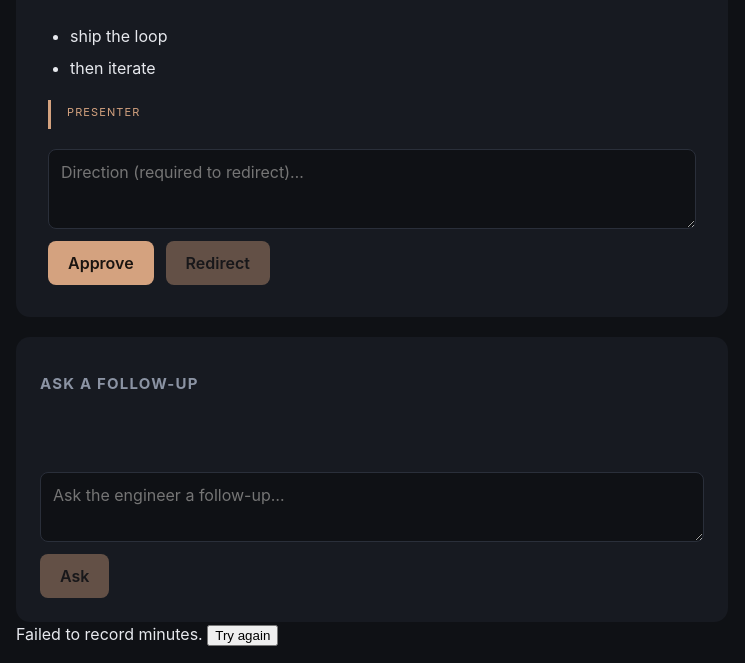
Test: MeetingView — two-step decision handoff › shows minutes-error + retry on a non-201 POST and keeps the slide stage
(page scrolled)
Expected: the element with test id "minutes-error" is shown, top-left (16, 624), bottom-right (278, 646)
Step 1. Click the button with test id "minutes-retry" → (243, 636), box top-left (207, 625), bottom-right (278, 646)
(page scrolled)
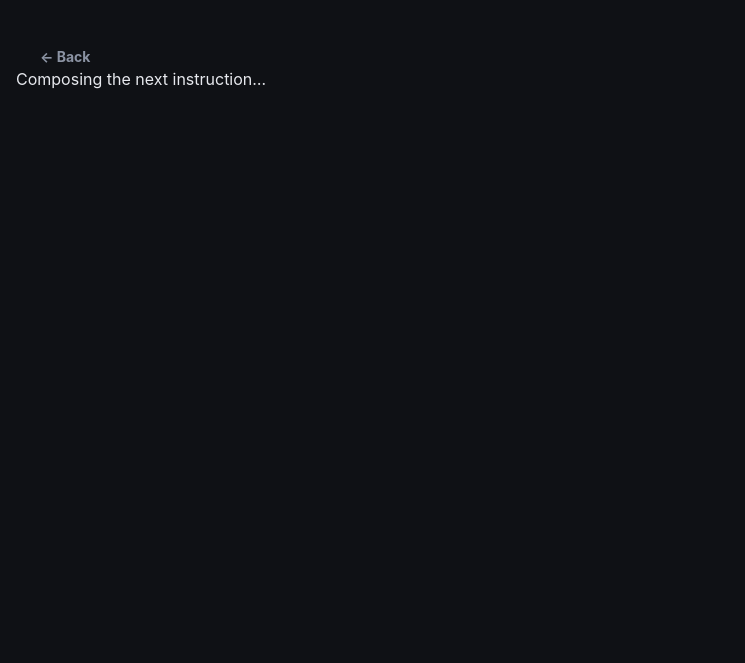
Result: the text "Composing the next instruction…" is shown at top-left (16, 69), bottom-right (266, 89)
